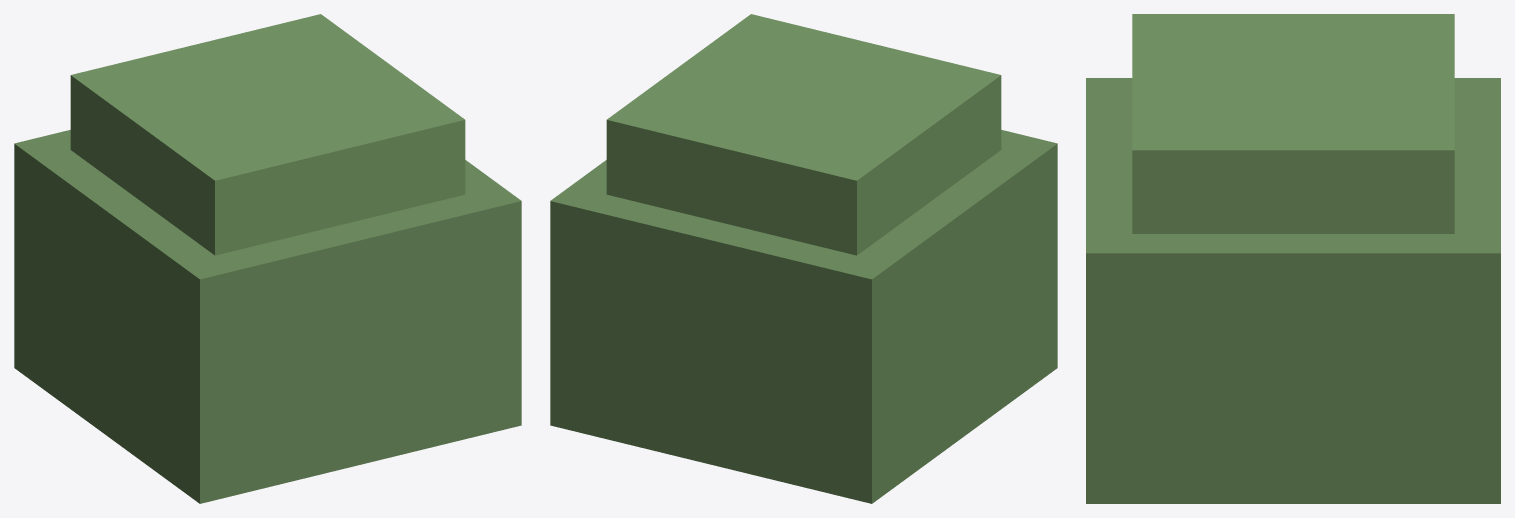
File: arbusto_comun_03.glb
3 views of the same model, side by side, from view 1: azimuth 30°, elevation 25°; view 2: azimuth 150°, elevation 25°; view 3: azimuth 270°, elevation 25° (orthographic). The views are drawn at different scales.
Visible parts, largest first — view 1: arbusto_comun_03; view 2: arbusto_comun_03; view 3: arbusto_comun_03.
Part boxes in pixels (x1,y1,x2,y2): arbusto_comun_03: (14,14,521,503); arbusto_comun_03: (550,14,1057,503); arbusto_comun_03: (1086,14,1500,503).
Size of the model in its own units: 0.9 by 0.8 by 0.9.
